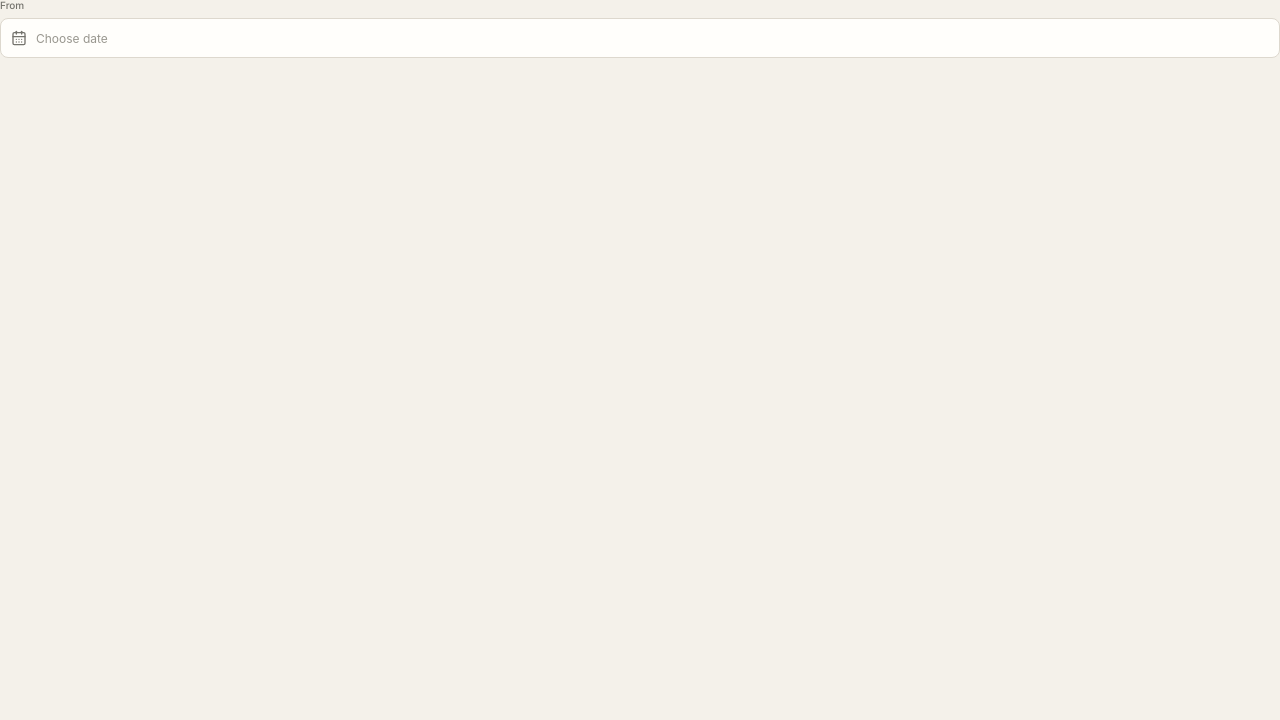
DatePicker › selects a date from the custom calendar
Click the button "Choose date": coordinates (72, 38) [1,19,1279,57]
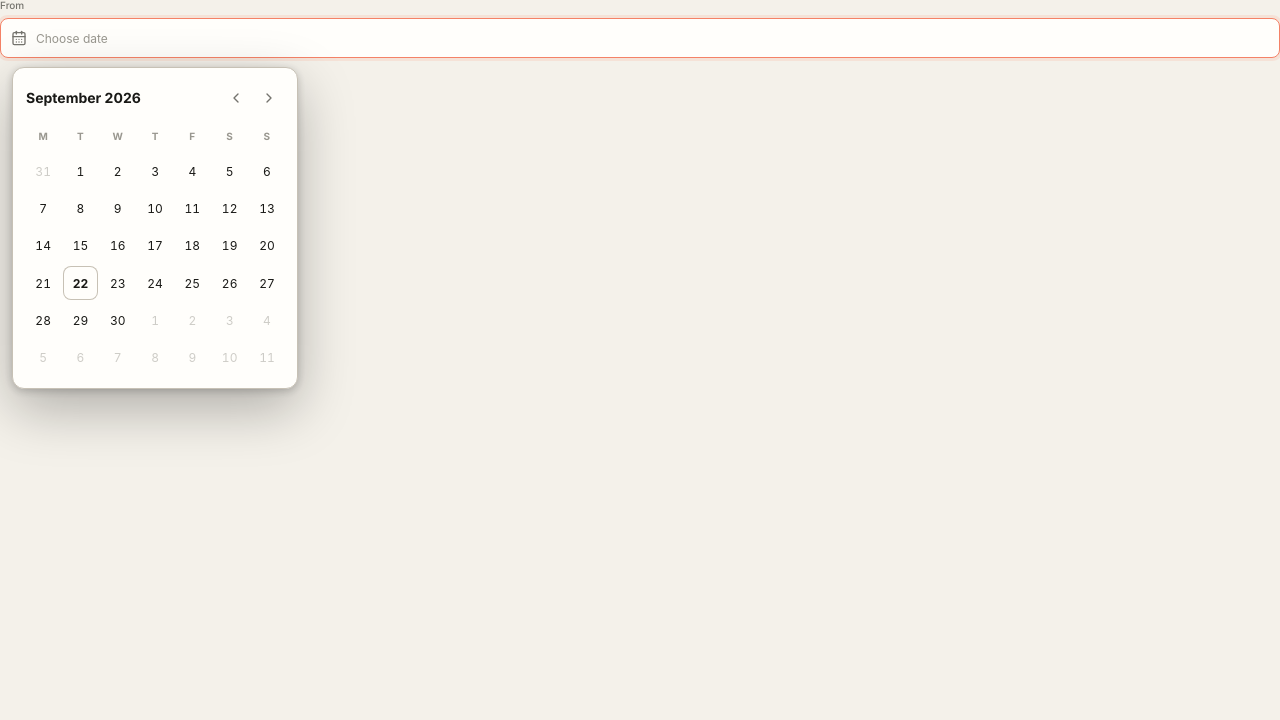
Click the button named "September 22, 2026": coordinates (80, 283) [63,266,98,300]
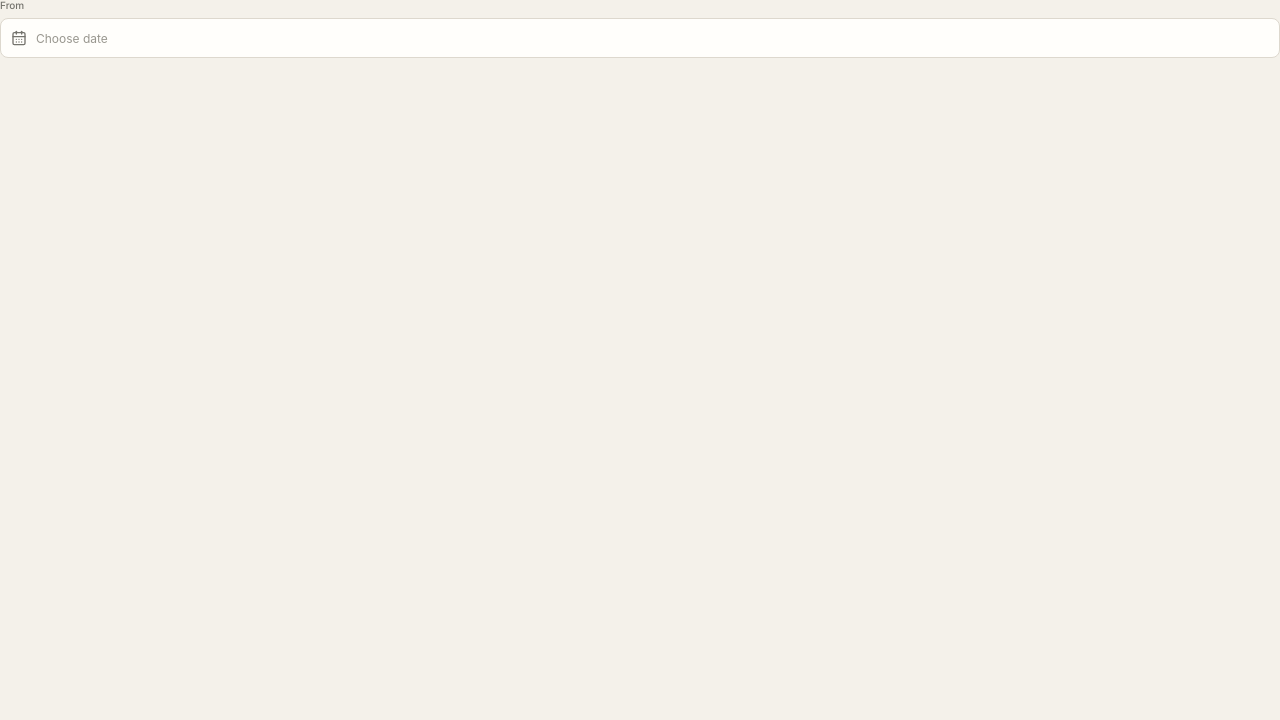
Check: the dialog is gone
